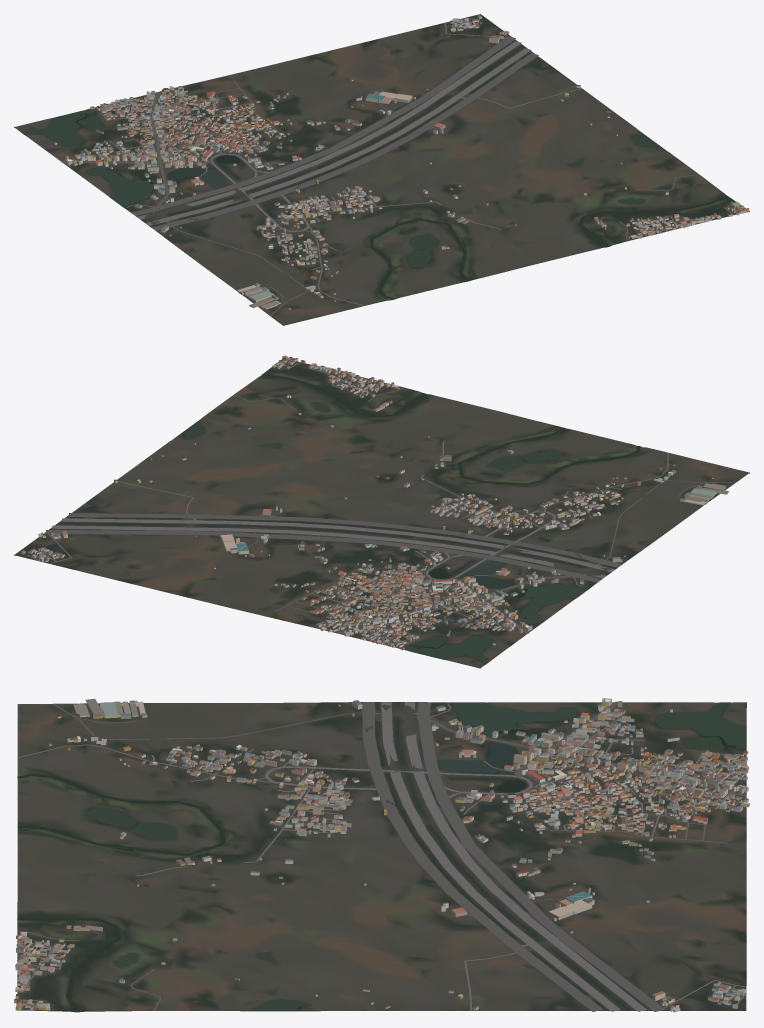
3 views of the same model, one above another, from view 1: azimuth 30°, elevation 25°; view 2: azimuth 150°, elevation 25°; view 3: azimuth 270°, elevation 25° (orthographic). The views are drawn at different scales.
Visible parts, largest first — view 1: ground, buildings, roads, water; view 2: ground, buildings, roads, water; view 3: ground, buildings, roads, water.
Boxes of the visible parts, box(x1,y1,x2,y2) form: ground: box(14, 14, 749, 325); buildings: box(54, 15, 749, 309); roads: box(61, 18, 735, 316); water: box(20, 110, 728, 299); ground: box(14, 359, 749, 668); buildings: box(20, 355, 728, 650); roads: box(27, 362, 736, 647); water: box(174, 374, 640, 663); ground: box(17, 702, 746, 1012); buildings: box(14, 698, 749, 1012); roads: box(17, 701, 746, 1011); water: box(17, 702, 746, 1011).
Bounding box in the file's own units: 1425 × 25.14 × 1415.
